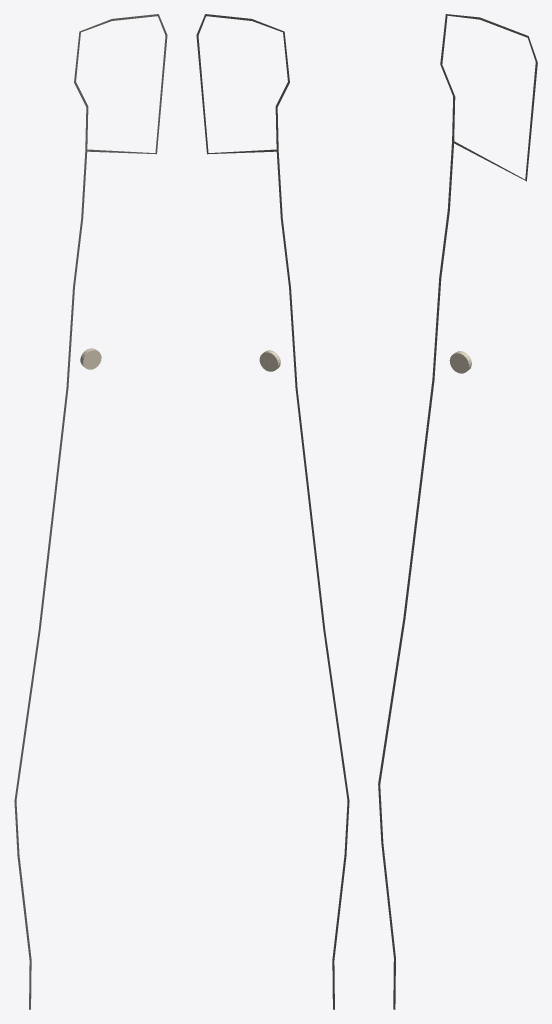
Rendered from historic-palestine-13_31_3549_3252.glb.
The picture shows the model from 3 angles, left to right: view 1: azimuth 30°, elevation 25°; view 2: azimuth 150°, elevation 25°; view 3: azimuth 330°, elevation 25°; orthographic projection. The views are drawn at different scales.
Parts seen in each view (by area): view 1: Road; view 2: Road; view 3: Road, Building_.
Boxes of the visible parts, bbox=[...] form: Road: bbox=[14, 14, 167, 1009]; Road: bbox=[196, 14, 349, 1009]; Road: bbox=[378, 14, 537, 1009]; Building_: bbox=[449, 351, 471, 373].
Bounding box in the file's own units: 237 × 1433 × 8.7.
